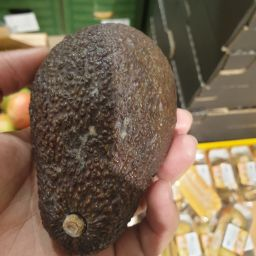Avocado: (36, 17, 181, 256), (68, 20, 190, 215), (4, 33, 120, 226), (18, 155, 159, 256)
